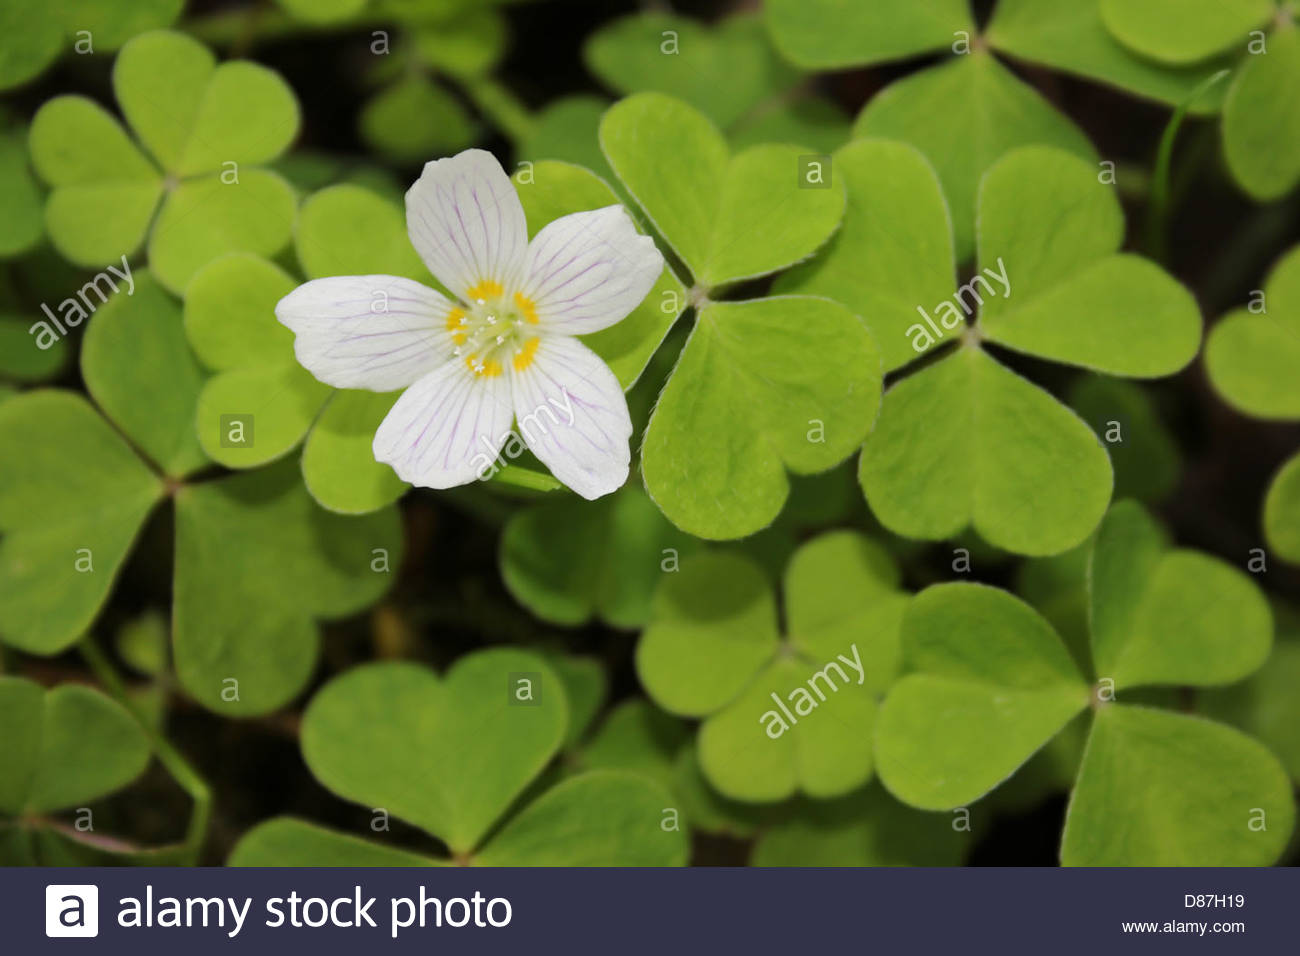oxalis: (57, 61, 1297, 917)
